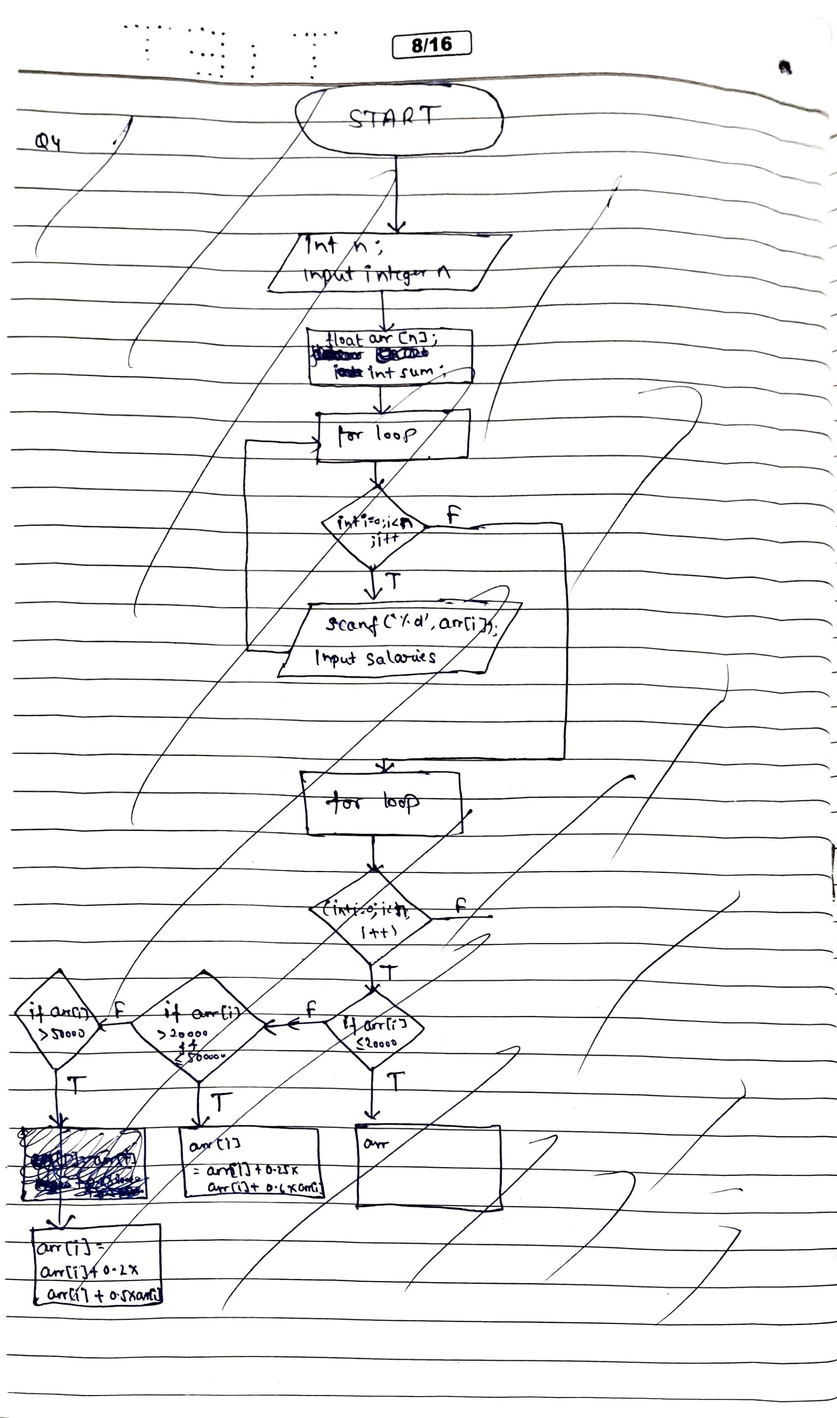cuttings: (4, 74, 769, 1343)
